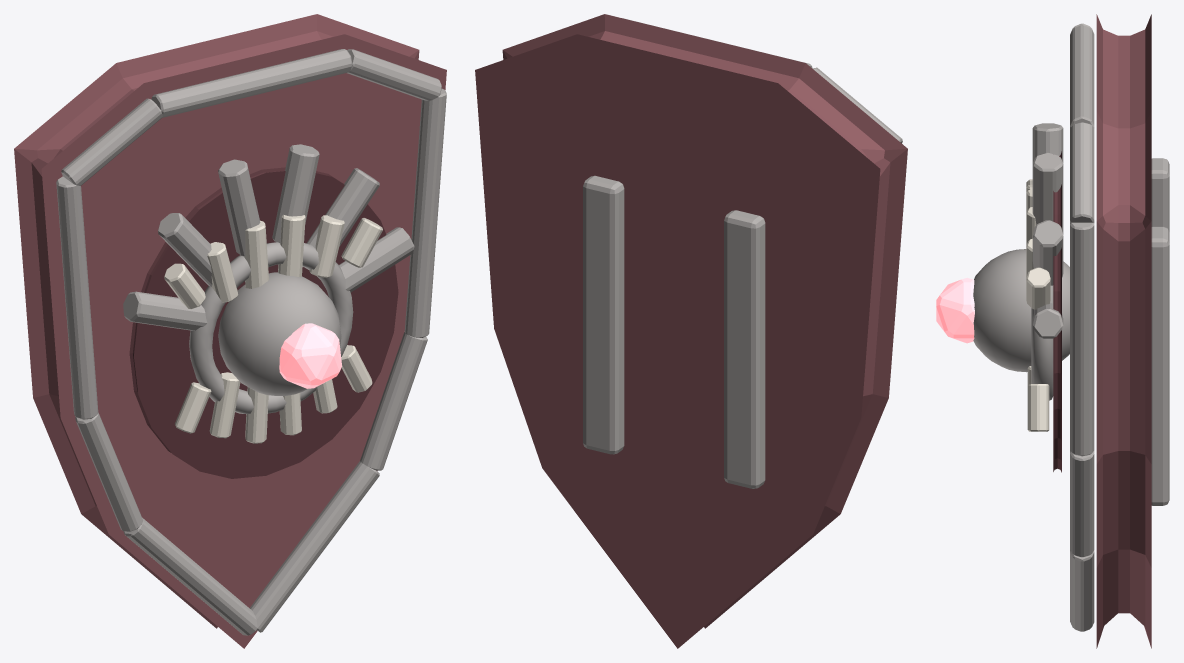
File: warrior-shield-09-bloodfang-maw.glb
3 views of the same model, side by side, from view 1: azimuth 30°, elevation 25°; view 2: azimuth 150°, elevation 25°; view 3: azimuth 270°, elevation 25° (orthographic).
Parts seen in each view (by area): view 1: warrior-shield-09-bloodfang-maw_ShieldBack, warrior-shield-09-bloodfang-maw_MawInterior, warrior-shield-09-bloodfang-maw_BossBase, warrior-shield-09-bloodfang-maw_RaisedRim_4, warrior-shield-09-bloodfang-maw_RaisedRim_9, warrior-shield-09-bloodfang-maw_MawBossRim, warrior-shield-09-bloodfang-maw_RaisedRim_2, warrior-shield-09-bloodfang-maw_RaisedRim_6, warrior-shield-09-bloodfang-maw_RaisedRim_7, warrior-shield-09-bloodfang-maw_RaisedRim_5, warrior-shield-09-bloodfang-maw_BloodRuby, warrior-shield-09-bloodfang-maw_RaisedRim_8 (+20 smaller); view 2: warrior-shield-09-bloodfang-maw_ShieldBack, warrior-shield-09-bloodfang-maw_BackStrap_1, warrior-shield-09-bloodfang-maw_BackStrap_-1; view 3: warrior-shield-09-bloodfang-maw_ShieldBack, warrior-shield-09-bloodfang-maw_BossBase, warrior-shield-09-bloodfang-maw_RaisedRim_4, warrior-shield-09-bloodfang-maw_BackStrap_1, warrior-shield-09-bloodfang-maw_RaisedRim_5, warrior-shield-09-bloodfang-maw_RaisedRim_3, warrior-shield-09-bloodfang-maw_RaisedRim_2, warrior-shield-09-bloodfang-maw_MawInterior, warrior-shield-09-bloodfang-maw_BloodRuby, warrior-shield-09-bloodfang-maw_JawFang_4, warrior-shield-09-bloodfang-maw_RaisedRim_6, warrior-shield-09-bloodfang-maw_JawFang_5 (+6 smaller).
Part boxes in pixels (box(x1,y1,x2,y2)): warrior-shield-09-bloodfang-maw_ShieldBack: box(14, 14, 446, 648); warrior-shield-09-bloodfang-maw_MawInterior: box(129, 167, 398, 478); warrior-shield-09-bloodfang-maw_BossBase: box(218, 272, 341, 395); warrior-shield-09-bloodfang-maw_RaisedRim_4: box(404, 88, 446, 337); warrior-shield-09-bloodfang-maw_RaisedRim_9: box(56, 176, 98, 419); warrior-shield-09-bloodfang-maw_MawBossRim: box(189, 242, 353, 414); warrior-shield-09-bloodfang-maw_RaisedRim_2: box(151, 49, 352, 117); warrior-shield-09-bloodfang-maw_RaisedRim_6: box(249, 461, 379, 632); warrior-shield-09-bloodfang-maw_RaisedRim_7: box(123, 517, 257, 635); warrior-shield-09-bloodfang-maw_RaisedRim_5: box(360, 331, 427, 470); warrior-shield-09-bloodfang-maw_BloodRuby: box(279, 323, 341, 388); warrior-shield-09-bloodfang-maw_RaisedRim_8: box(75, 412, 142, 531); warrior-shield-09-bloodfang-maw_ShieldBack: box(475, 14, 907, 648); warrior-shield-09-bloodfang-maw_BackStrap_1: box(583, 175, 624, 454); warrior-shield-09-bloodfang-maw_BackStrap_-1: box(724, 210, 765, 488); warrior-shield-09-bloodfang-maw_ShieldBack: box(1096, 14, 1151, 648); warrior-shield-09-bloodfang-maw_BossBase: box(973, 249, 1069, 372); warrior-shield-09-bloodfang-maw_RaisedRim_4: box(1070, 222, 1094, 456); warrior-shield-09-bloodfang-maw_BackStrap_1: box(1151, 226, 1169, 505); warrior-shield-09-bloodfang-maw_RaisedRim_5: box(1070, 451, 1094, 557); warrior-shield-09-bloodfang-maw_RaisedRim_3: box(1070, 122, 1094, 222); warrior-shield-09-bloodfang-maw_RaisedRim_2: box(1070, 25, 1094, 128); warrior-shield-09-bloodfang-maw_MawInterior: box(1053, 151, 1061, 472); warrior-shield-09-bloodfang-maw_BloodRuby: box(936, 277, 974, 343); warrior-shield-09-bloodfang-maw_JawFang_4: box(1032, 153, 1063, 234); warrior-shield-09-bloodfang-maw_RaisedRim_6: box(1070, 550, 1094, 631); warrior-shield-09-bloodfang-maw_JawFang_5: box(1032, 220, 1063, 285).
Size of the model in its own units: 0.9774 by 1.36 by 0.4912.
